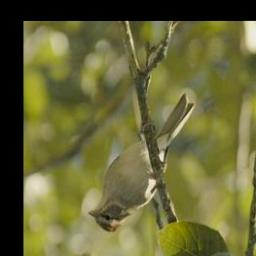Sparrow: (87, 93, 195, 235)
